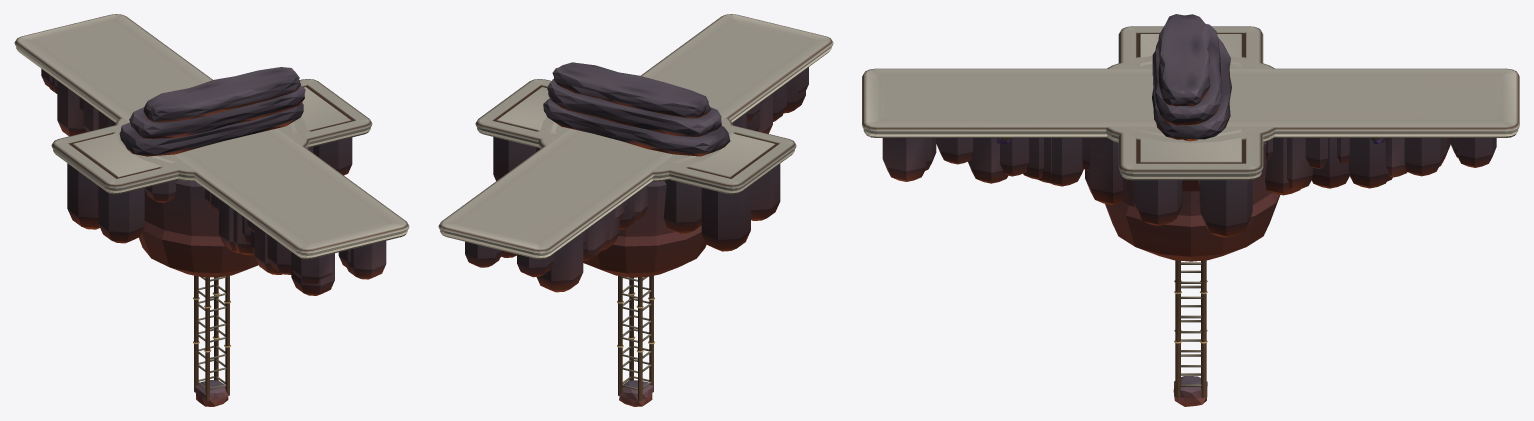
Rendered from volcano-1-BD3P2QSk.glb.
3 renders of one model, left to right at view 1: azimuth 30°, elevation 25°; view 2: azimuth 150°, elevation 25°; view 3: azimuth 270°, elevation 25°, orthographic. The views are drawn at different scales.
Visible parts, largest first — view 1: block_9x2x41#0, block_21.5x2x9#0, spout_11x2#0, disc_14x1.5#0, truss_20#0, block_8x2x40#0, block_8x2x30_grate#1; view 2: block_9x2x41#0, block_21.5x2x9#0, spout_11x2#0, disc_14x1.5#0, truss_20#0, block_8x2x40#0, block_8x2x30_grate#1; view 3: block_9x2x41#0, block_21.5x2x9#0, disc_14x1.5#0, spout_11x2#0, block_8x2x30_grate#1, block_8x2x40#0, truss_20#0.
Boxes of the visible parts, x1,y1,x2,y2 form: block_9x2x41#0: (14,14,409,283); block_21.5x2x9#0: (51,79,372,243); spout_11x2#0: (119,67,305,156); disc_14x1.5#0: (115,117,309,277); truss_20#0: (193,275,230,406); block_8x2x40#0: (31,19,392,295); block_8x2x30_grate#1: (65,45,358,274); block_9x2x41#0: (438,14,833,292); block_21.5x2x9#0: (475,79,796,251); spout_11x2#0: (543,62,730,156); disc_14x1.5#0: (538,117,732,277); truss_20#0: (617,275,654,406); block_8x2x40#0: (455,19,817,277); block_8x2x30_grate#1: (489,45,782,251); block_9x2x41#0: (862,68,1519,205); block_21.5x2x9#0: (1118,26,1263,237); disc_14x1.5#0: (1105,55,1280,261); spout_11x2#0: (1152,14,1231,139); block_8x2x30_grate#1: (955,74,1426,189); block_8x2x40#0: (879,74,1502,195); truss_20#0: (1173,260,1207,406).
Size of the model in its own units: 21.5 by 24.42 by 41.
